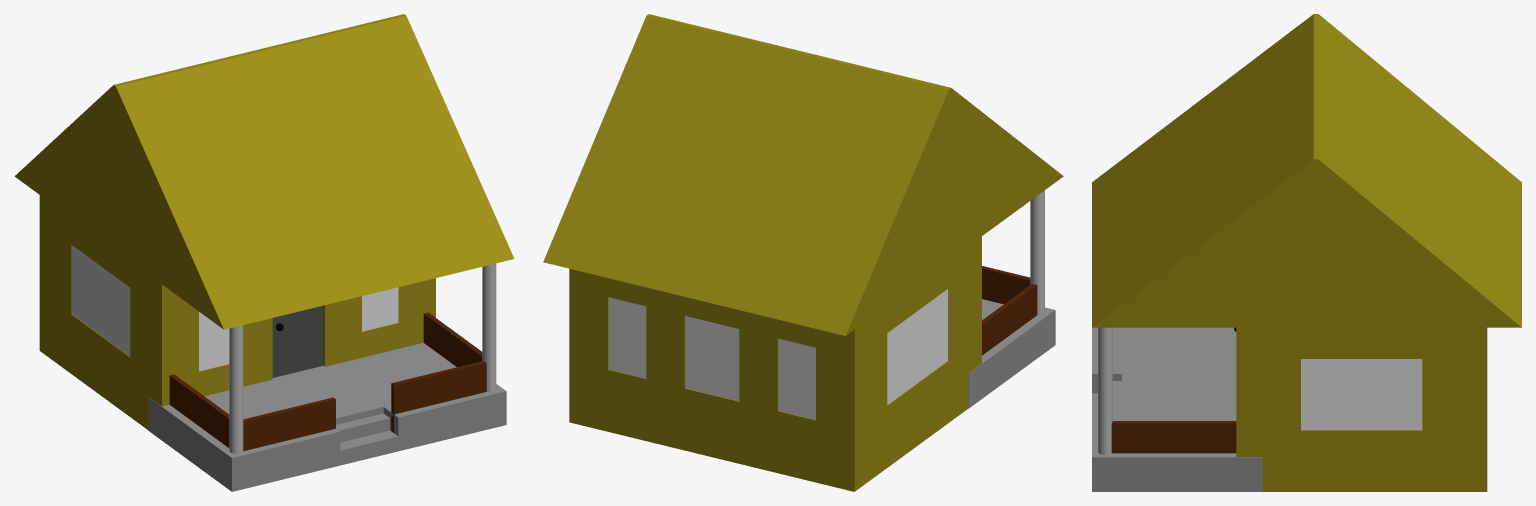
The model's file is House 2.fbx.
3 renders of one model, left to right at view 1: azimuth 30°, elevation 25°; view 2: azimuth 150°, elevation 25°; view 3: azimuth 270°, elevation 25°, orthographic. The views are drawn at different scales.
Visible parts, largest first — view 1: House 2; view 2: House 2; view 3: House 2.
Part boxes in pixels (x1,y1,x2,y2): House 2: (14,14,514,491); House 2: (543,14,1063,491); House 2: (1092,14,1521,491).
Bounding box in the file's own units: 932 × 1006 × 1165.
